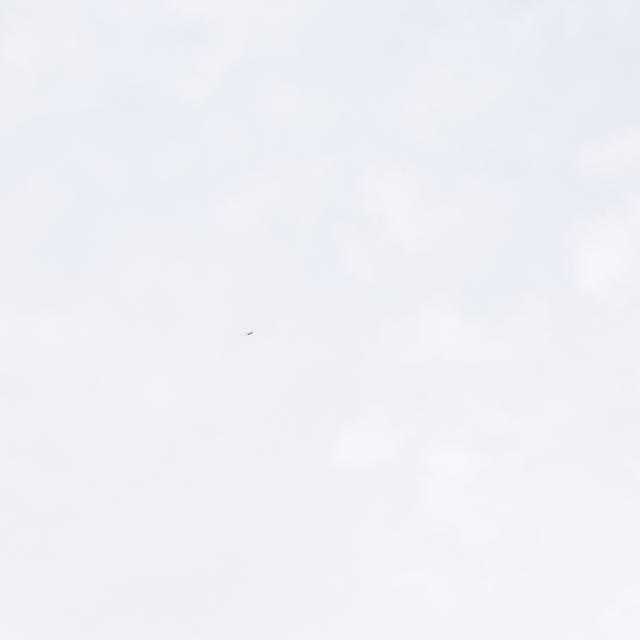Airaplan: (243, 330, 256, 337)
